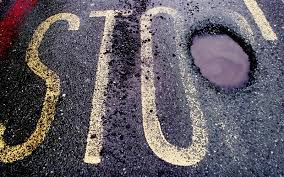pothole: (172, 13, 278, 109)
